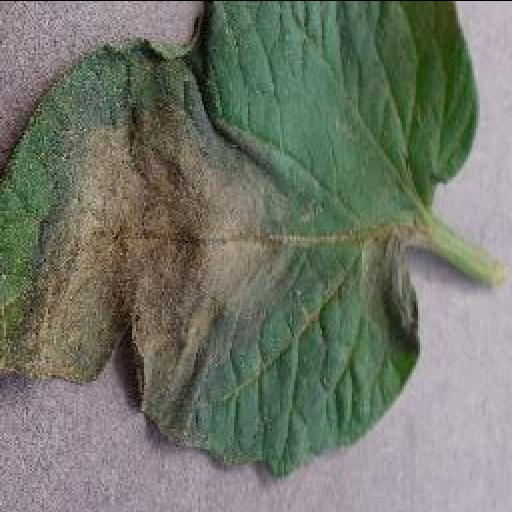disease_tomato: (0, 0, 480, 476)
